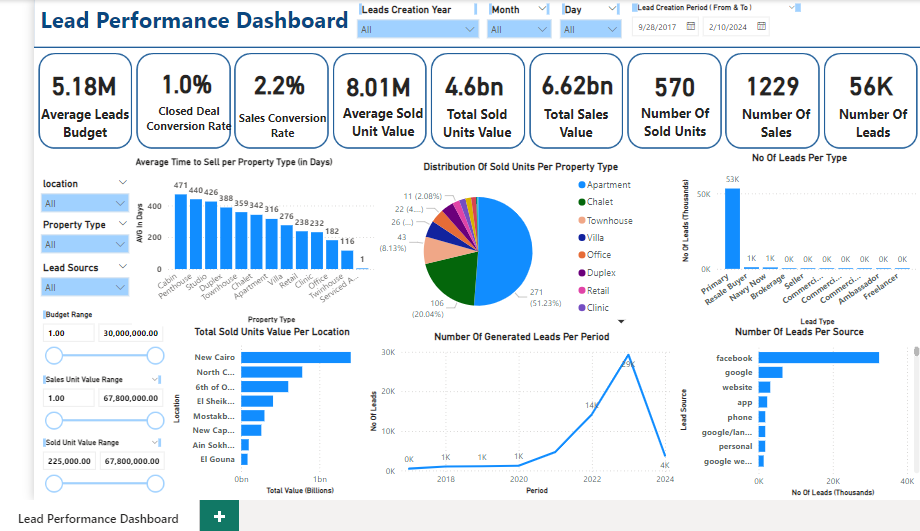

Layout of this report page (visuals, bound fields, positions):
{"tool":"powerbi","page":{"name":"Lead Performance Dashboard","canvas":[1280,720],"ordinal":0},"visuals":[{"type":"group","id":"g1","title":"Group 1","box":[147,78.6,145,143.3],"z":0},{"type":"card","title":"Average Leads Budget","fields":{"Values":["measures_table.Avg_leads_budget"]},"box":[8.3,81.4,128.3,76.7],"z":0,"group":"g9"},{"type":"group","id":"g2","title":"Group 2","box":[278.5,80.6,160,154],"z":1000},{"type":"textbox","box":[5,146.4,138.3,78.3],"z":1000,"group":"g9"},{"type":"card","title":"Average Leads Budget","fields":{"Values":["measures_table.total_sales_value"]},"box":[710,80.6,145,76.7],"z":2000,"group":"g8"},{"type":"group","id":"g3","title":"Group 3","box":[423.6,83.1,148.3,140],"z":2000},{"type":"group","id":"g4","title":"Group 4","box":[561.9,81.4,145,143.3],"z":3000},{"type":"card","title":"Average Leads Budget","fields":{"Values":["measures_table.Total_leads"]},"box":[1131.7,81.4,145,76.7],"z":3000,"group":"g7"},{"type":"card","title":"Average Leads Budget","fields":{"Values":["measures_table.closed_deal_rate"]},"box":[147,78.6,145,76.7],"z":4000,"group":"g1"},{"type":"card","title":"Average Leads Budget","fields":{"Values":["measures_table.total_sales"]},"box":[990,81.4,145,76.7],"z":4000,"group":"g6"},{"type":"group","id":"g5","title":"Group 5","box":[850,83.1,145,140],"z":4000},{"type":"group","id":"g6","title":"Group 6","box":[990,81.4,146.7,143.3],"z":5000},{"type":"card","title":"Average Leads Budget","fields":{"Values":["measures_table.Total_closed_deals"]},"box":[850,83.1,145,76.7],"z":5000,"group":"g5"},{"type":"card","title":"Average Leads Budget","fields":{"Values":["measures_table.total_closed_deal_value"]},"box":[561.9,81.4,145,76.7],"z":6000,"group":"g4"},{"type":"group","id":"g7","title":"Group 7","box":[1131.7,81.4,145,143.3],"z":6000},{"type":"group","id":"g8","title":"Group 8","box":[710,80.6,145,145],"z":7000},{"type":"card","title":"Average Leads Budget","fields":{"Values":["measures_table.avg_sold_unit_price"]},"box":[423.6,83.1,145,76.7],"z":7000,"group":"g3"},{"type":"textbox","box":[1138.4,146.4,138.3,78.3],"z":7000,"group":"g7"},{"type":"group","id":"g9","title":"Group 9","box":[5,81.4,138.3,143.3],"z":8000},{"type":"textbox","box":[998.3,146.4,138.3,78.3],"z":8000,"group":"g6"},{"type":"card","title":"Average Leads Budget","fields":{"Values":["measures_table.sales_conversion_rate"]},"box":[281.6,80.6,145,76.7],"z":9000,"group":"g2"},{"type":"textbox","box":[855,144.8,138.3,78.3],"z":9000,"group":"g5"},{"type":"textbox","box":[4.3,0,468.6,58.6],"z":10000},{"type":"textbox","box":[568.6,146.4,138.3,78.3],"z":11000,"group":"g4"},{"type":"columnChart","title":"No Of Leads Per Type","fields":{"Category":["lead_type.lead_type"],"Y":["CountNonNull(clean_leads.id)"]},"box":[927.1,218.6,350,254.3],"z":11000},{"type":"textbox","box":[153.7,143.6,138.3,78.3],"z":11001,"group":"g1"},{"type":"textbox","box":[278.5,154.6,160,80],"z":11004,"group":"g2"},{"type":"textbox","box":[433.6,144.8,138.3,78.3],"z":12000,"group":"g3"},{"type":"clusteredBarChart","title":"Number Of Leads Per Source","fields":{"Category":["clean_leads.lead_source"],"Y":["CountNonNull(clean_leads.id)"]},"box":[924.3,470,355.7,250],"z":12000},{"type":"pieChart","title":"Distribution Of Sold Units Per Property Type","fields":{"Category":["property_type.property_type"],"Y":["CountNonNull(last_sales.id)"]},"box":[491.4,231.4,420,244.3],"z":13000},{"type":"clusteredBarChart","title":"Total Sold Units Value Per Location","fields":{"Category":["last_sales.Unit_location_updated"],"Y":["Sum(last_sales.actual_value)"]},"box":[194.3,470,297.1,247.1],"z":14000},{"type":"textbox","box":[711.7,147.3,138.3,78.3],"z":14005,"group":"g8"},{"type":"slicer","fields":{"Values":["last_sales.Unit_location_updated"]},"box":[0,250,147.1,80],"z":15000},{"type":"slicer","fields":{"Values":["property_type.property_type"]},"box":[0,310,147.1,80],"z":16000},{"type":"slicer","fields":{"Values":["clean_leads.lead_source"]},"box":[0,371.4,147.1,80],"z":17000},{"type":"slicer","fields":{"Values":["clean_leads.budget"]},"box":[0,441.4,195.7,94.3],"z":18000},{"type":"slicer","fields":{"Values":["last_sales.unit_value"]},"box":[0,535.7,195.7,94.3],"z":19000},{"type":"slicer","fields":{"Values":["last_sales.actual_value"]},"box":[0,625.7,195.7,94.3],"z":20000},{"type":"slicer","fields":{"Values":["Calender.Year"]},"box":[455.7,0,195.7,64.3],"z":21000},{"type":"slicer","fields":{"Values":["Calender.MonrhName"]},"box":[642.9,0,112.9,64.3],"z":22000},{"type":"slicer","fields":{"Values":["Calender.Day"]},"box":[747.1,0,108.6,64.3],"z":23000},{"type":"slicer","fields":{"Values":["Calender.Date"]},"box":[848.6,0,268.6,64.3],"z":24000},{"type":"lineChart","title":"Number Of Generated Leads Per Period","fields":{"Category":["Calender.Date.Variation.Date Hierarchy.Year","Calender.Date.Variation.Date Hierarchy.Quarter","Calender.Date.Variation.Date Hierarchy.Month"],"Y":["CountNonNull(clean_leads.id)"]},"box":[478.6,477.1,448.6,240],"z":25000},{"type":"clusteredColumnChart","title":"Average Time to Sell per Property Type (in Months)","fields":{"Category":["property_type.property_type"],"Y":["Avg(last_sales.time_to_sale)"]},"box":[141.4,225.7,354.3,244.3],"z":26000}]}

Visuals, with their boxes in screenshot pixels (x1, y1, x2, y2), scaled from the page's 1280x720 canvas onto the 920x531 screenshot:
"Group 1" group: {"left": 106, "top": 58, "right": 210, "bottom": 164}
"Average Leads Budget" card: {"left": 6, "top": 60, "right": 98, "bottom": 117}
"Group 2" group: {"left": 200, "top": 59, "right": 315, "bottom": 173}
textbox: {"left": 4, "top": 108, "right": 103, "bottom": 166}
"Average Leads Budget" card: {"left": 510, "top": 59, "right": 615, "bottom": 116}
"Group 3" group: {"left": 304, "top": 61, "right": 411, "bottom": 165}
"Group 4" group: {"left": 404, "top": 60, "right": 508, "bottom": 166}
"Average Leads Budget" card: {"left": 813, "top": 60, "right": 918, "bottom": 117}
"Average Leads Budget" card: {"left": 106, "top": 58, "right": 210, "bottom": 115}
"Average Leads Budget" card: {"left": 712, "top": 60, "right": 816, "bottom": 117}
"Group 5" group: {"left": 611, "top": 61, "right": 715, "bottom": 165}
"Group 6" group: {"left": 712, "top": 60, "right": 817, "bottom": 166}
"Average Leads Budget" card: {"left": 611, "top": 61, "right": 715, "bottom": 118}
"Average Leads Budget" card: {"left": 404, "top": 60, "right": 508, "bottom": 117}
"Group 7" group: {"left": 813, "top": 60, "right": 918, "bottom": 166}
"Group 8" group: {"left": 510, "top": 59, "right": 615, "bottom": 166}
"Average Leads Budget" card: {"left": 304, "top": 61, "right": 409, "bottom": 118}
textbox: {"left": 818, "top": 108, "right": 918, "bottom": 166}
"Group 9" group: {"left": 4, "top": 60, "right": 103, "bottom": 166}
textbox: {"left": 718, "top": 108, "right": 817, "bottom": 166}
"Average Leads Budget" card: {"left": 202, "top": 59, "right": 307, "bottom": 116}
textbox: {"left": 615, "top": 107, "right": 714, "bottom": 165}
textbox: {"left": 3, "top": 0, "right": 340, "bottom": 43}
textbox: {"left": 409, "top": 108, "right": 508, "bottom": 166}
"No Of Leads Per Type" columnChart: {"left": 666, "top": 161, "right": 918, "bottom": 349}
textbox: {"left": 110, "top": 106, "right": 210, "bottom": 164}
textbox: {"left": 200, "top": 114, "right": 315, "bottom": 173}
textbox: {"left": 312, "top": 107, "right": 411, "bottom": 165}
"Number Of Leads Per Source" clusteredBarChart: {"left": 664, "top": 347, "right": 919, "bottom": 530}
"Distribution Of Sold Units Per Property Type" pieChart: {"left": 353, "top": 171, "right": 655, "bottom": 351}
"Total Sold Units Value Per Location" clusteredBarChart: {"left": 140, "top": 347, "right": 353, "bottom": 529}
textbox: {"left": 512, "top": 109, "right": 611, "bottom": 166}
slicer - last_sales.Unit_location_updated: {"left": 0, "top": 184, "right": 106, "bottom": 243}
slicer - property_type.property_type: {"left": 0, "top": 229, "right": 106, "bottom": 288}
slicer - clean_leads.lead_source: {"left": 0, "top": 274, "right": 106, "bottom": 333}
slicer - clean_leads.budget: {"left": 0, "top": 326, "right": 141, "bottom": 395}
slicer - last_sales.unit_value: {"left": 0, "top": 395, "right": 141, "bottom": 465}
slicer - last_sales.actual_value: {"left": 0, "top": 461, "right": 141, "bottom": 530}
slicer - Calender.Year: {"left": 328, "top": 0, "right": 468, "bottom": 47}
slicer - Calender.MonrhName: {"left": 462, "top": 0, "right": 543, "bottom": 47}
slicer - Calender.Day: {"left": 537, "top": 0, "right": 615, "bottom": 47}
slicer - Calender.Date: {"left": 610, "top": 0, "right": 803, "bottom": 47}
"Number Of Generated Leads Per Period" lineChart: {"left": 344, "top": 352, "right": 666, "bottom": 529}
"Average Time to Sell per Property Type (in Months)" clusteredColumnChart: {"left": 102, "top": 166, "right": 356, "bottom": 347}
